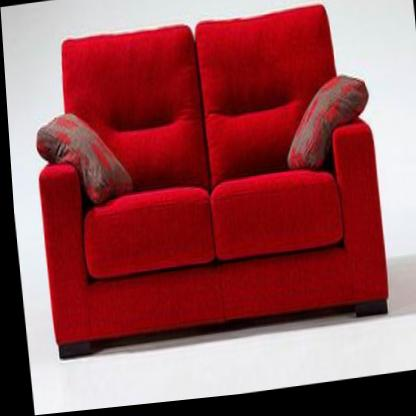Sofa: (24, 1, 387, 360)
